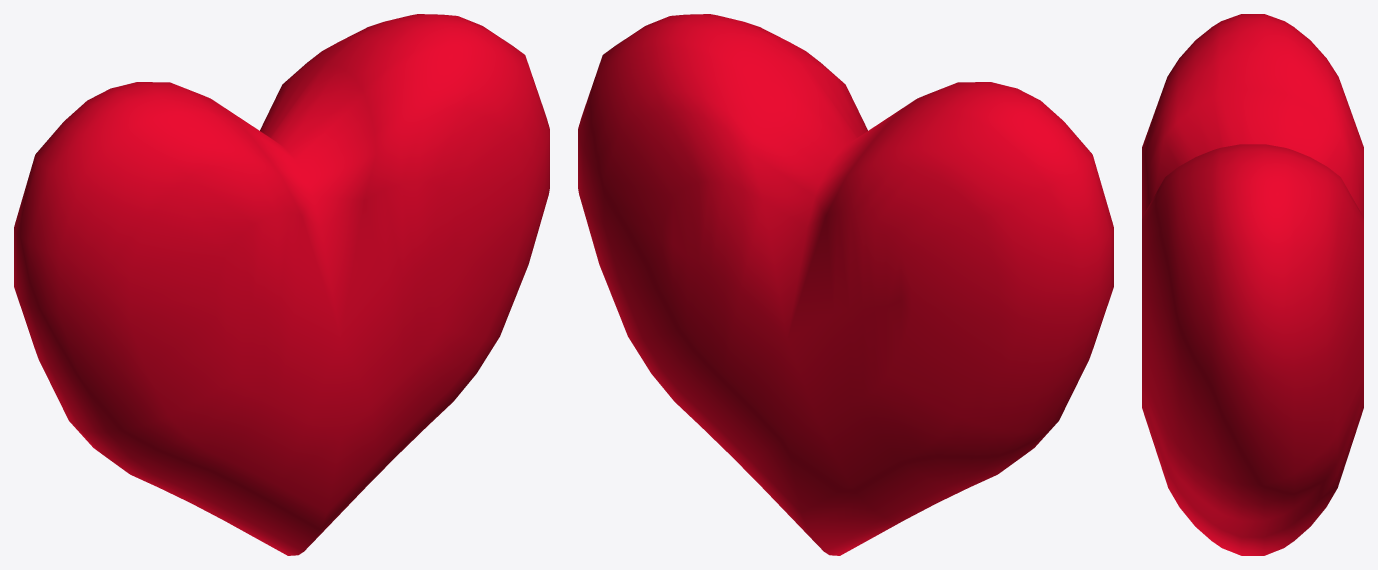
The model's file is HEART_pickup_heart.fbx.
3 views of the same model, side by side, from view 1: azimuth 30°, elevation 25°; view 2: azimuth 150°, elevation 25°; view 3: azimuth 270°, elevation 25° (orthographic). The views are drawn at different scales.
Visible parts, largest first — view 1: heart; view 2: heart; view 3: heart.
Boxes of the visible parts, x1,y1,x2,y2 form: heart: (14,14,549,555); heart: (578,14,1113,555); heart: (1142,14,1363,555).
Bounding box in the file's own units: 106 × 96.98 × 41.98.
